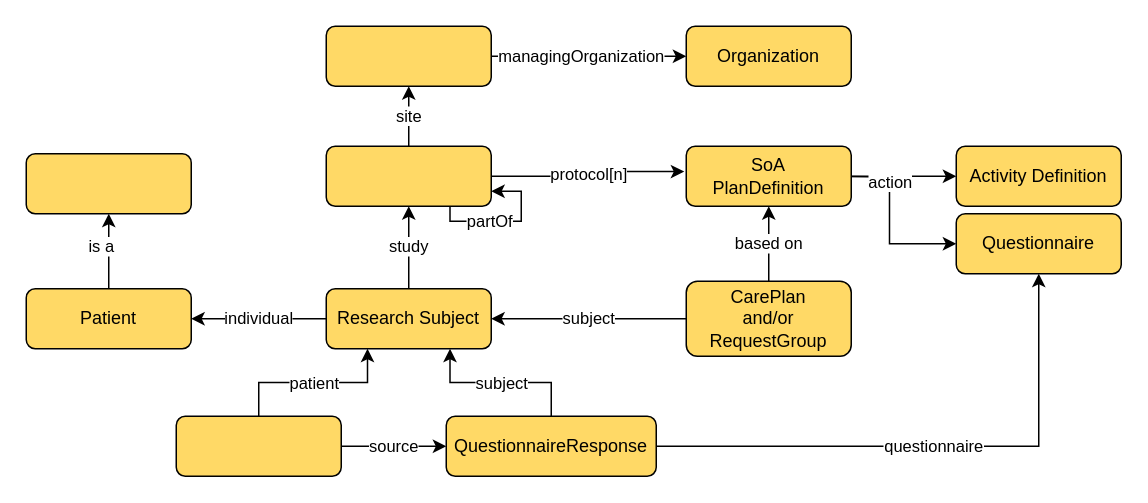
This 1148x503 diagram has some shape labels left out. Here are the shapes that lost their labels. From the top down, the centre of each, then its label:
At (x=408, y=55): "Location".
At (x=108, y=183): "Person".
At (x=408, y=175): "Research Study".
At (x=258, y=445): "Consent".
